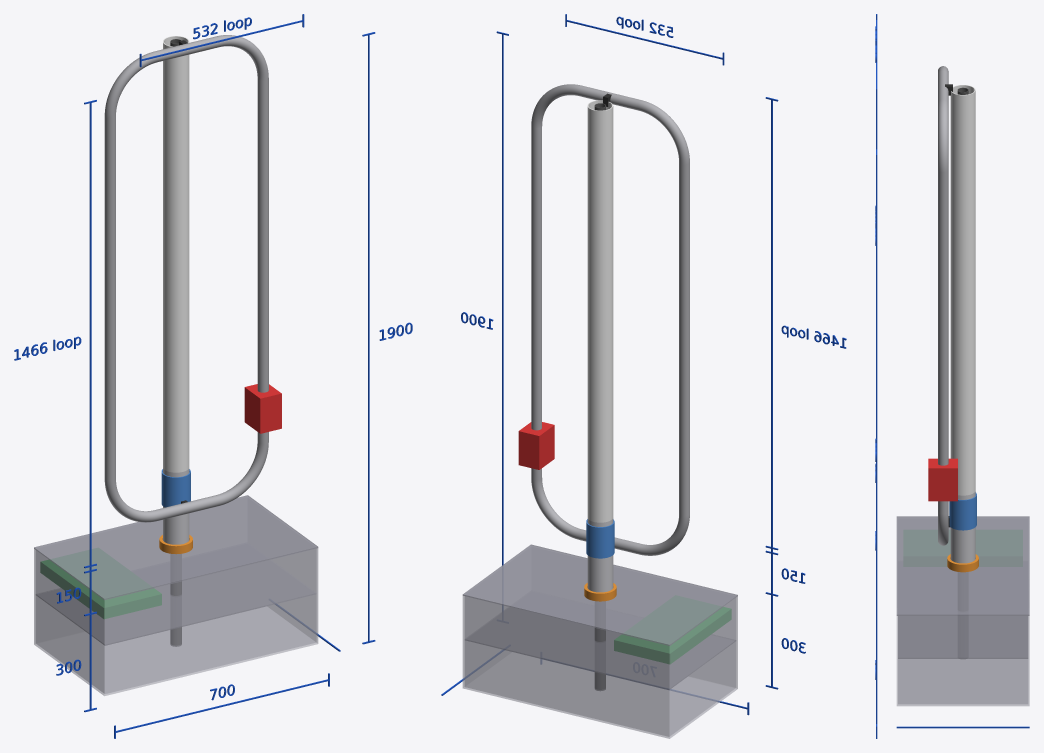
3 views of the same model, side by side, from view 1: azimuth 30°, elevation 25°; view 2: azimuth 150°, elevation 25°; view 3: azimuth 270°, elevation 25° (orthographic). The views are drawn at different scales.
Visible parts, largest first — view 1: tank, lid, track_loop, growing_pipe, shelf, dimensions, seedling_tray, cart, cleanout_section, sleeve, spine_tube; view 2: tank, lid, track_loop, growing_pipe, shelf, dimensions, seedling_tray, cart, cleanout_section, sleeve, spine_tube; view 3: tank, lid, growing_pipe, shelf, track_loop, seedling_tray, dimensions, cart, cleanout_section, sleeve, spine_tube, socket.
Boxes of the visible parts, x1=… form: tank: x1=34, y1=525, x2=318, y2=695; lid: x1=34, y1=495, x2=318, y2=600; track_loop: x1=104, y1=35, x2=268, y2=522; growing_pipe: x1=163, y1=36, x2=189, y2=472; shelf: x1=36, y1=560, x2=316, y2=645; dimensions: x1=14, y1=14, x2=412, y2=738; seedling_tray: x1=40, y1=548, x2=161, y2=618; cart: x1=244, y1=384, x2=281, y2=433; cleanout_section: x1=163, y1=468, x2=189, y2=544; sleeve: x1=161, y1=469, x2=190, y2=507; spine_tube: x1=170, y1=39, x2=181, y2=646; tank: x1=462, y1=546, x2=737, y2=738; lid: x1=462, y1=544, x2=737, y2=645; track_loop: x1=531, y1=84, x2=689, y2=555; growing_pipe: x1=587, y1=100, x2=613, y2=522; shelf: x1=465, y1=607, x2=736, y2=689; dimensions: x1=441, y1=14, x2=846, y2=715; seedling_tray: x1=614, y1=596, x2=731, y2=664; cart: x1=518, y1=422, x2=554, y2=469; cleanout_section: x1=587, y1=518, x2=613, y2=592; sleeve: x1=586, y1=519, x2=614, y2=558; spine_tube: x1=594, y1=103, x2=605, y2=690; tank: x1=896, y1=518, x2=1029, y2=706; lid: x1=896, y1=516, x2=1029, y2=615; growing_pipe: x1=950, y1=85, x2=975, y2=495; shelf: x1=898, y1=616, x2=1027, y2=658; track_loop: x1=938, y1=66, x2=948, y2=545; seedling_tray: x1=904, y1=530, x2=1022, y2=566; dimensions: x1=875, y1=14, x2=1029, y2=738; cart: x1=928, y1=458, x2=957, y2=501; cleanout_section: x1=950, y1=491, x2=975, y2=563; sleeve: x1=949, y1=492, x2=976, y2=530; spine_tube: x1=957, y1=87, x2=968, y2=610; socket: x1=947, y1=554, x2=978, y2=572.
Bounding box in the file's own units: 1302 × 2162 × 464.
